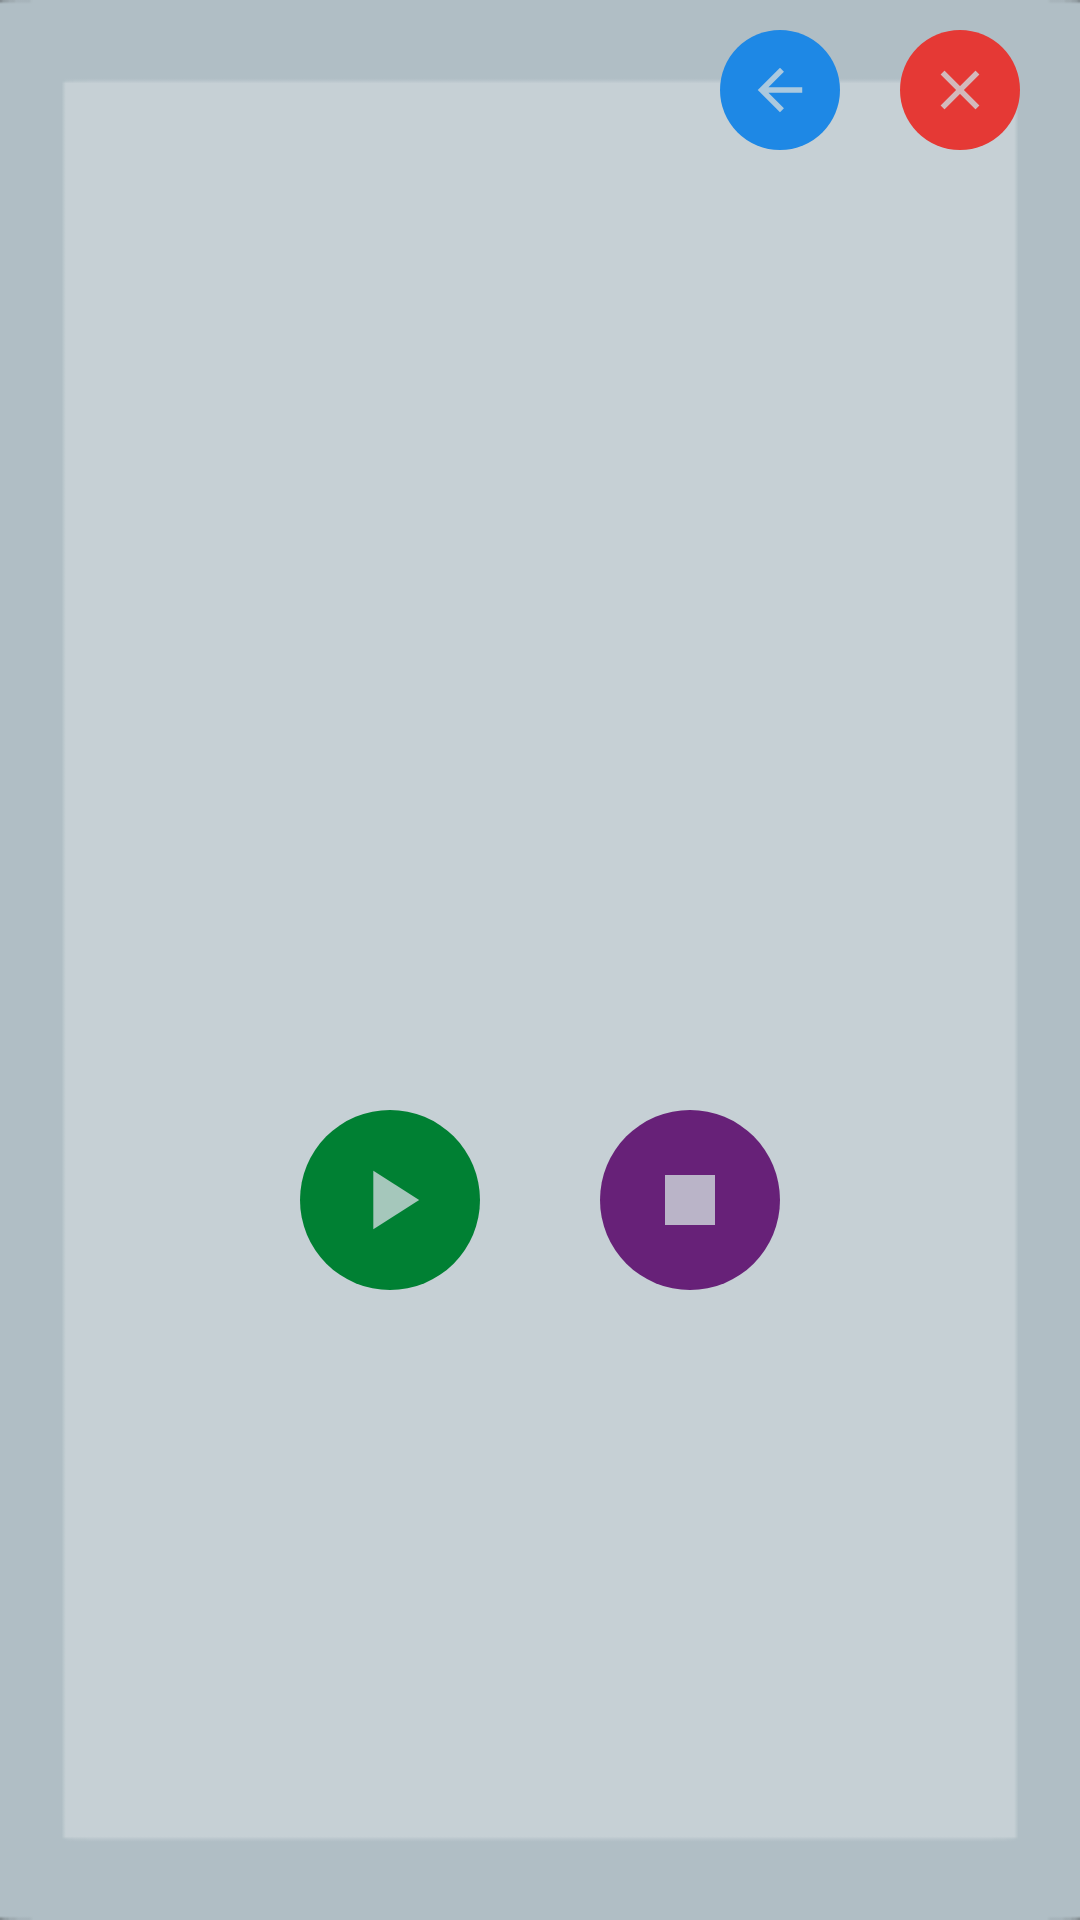

Point at icon controls on the screen. Image size 1080x1920, points as [x,y].
Back: [780,90]
close: [960,90]
play: [390,1200]
Stop: [690,1200]
